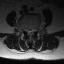CCS_normal: (28, 28, 31, 36)
LFS_normal: (33, 26, 36, 33)
LLS_normal: (31, 27, 33, 35)
RFS_normal: (24, 26, 26, 32)
RLS_normal: (26, 28, 28, 35)
